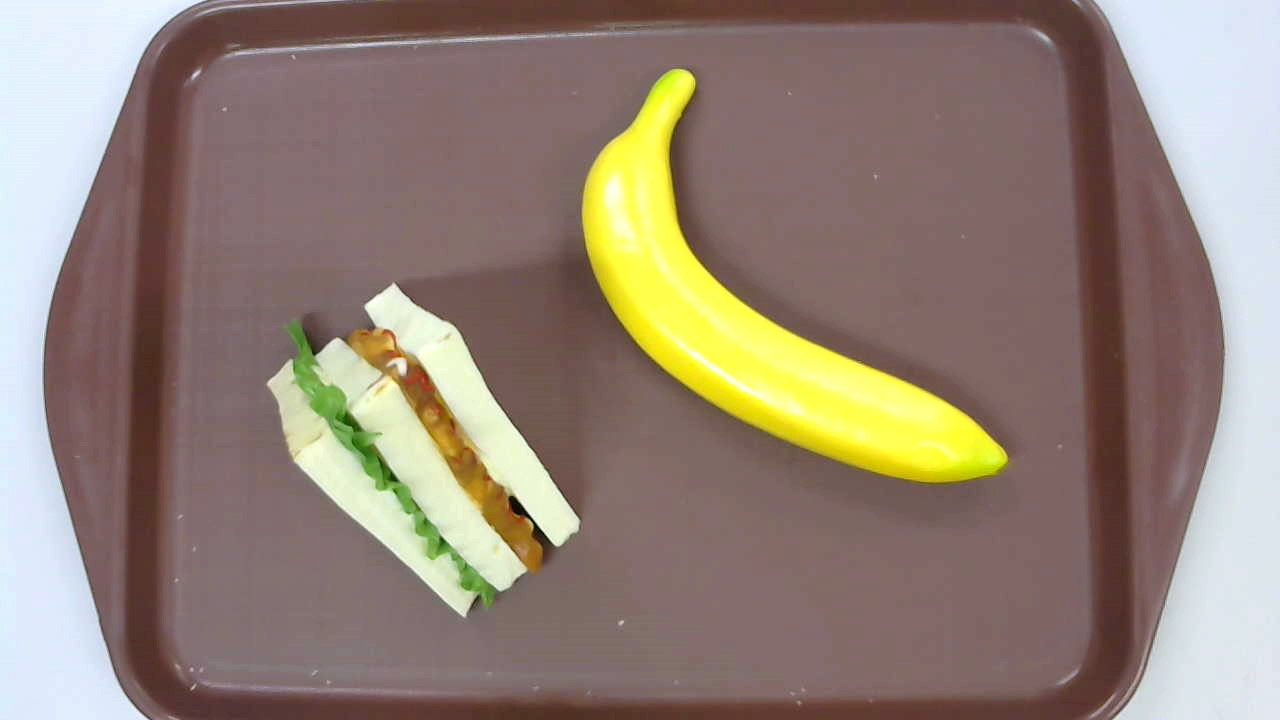banana: (580, 68, 1009, 484)
sandwich: (266, 283, 582, 619)
